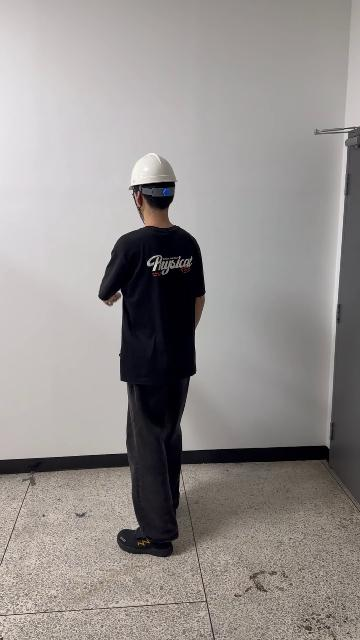helmet_worn: (127, 152, 178, 189)
shoe_worn: (117, 528, 172, 556)
vest_not_worn: (114, 234, 201, 397)
